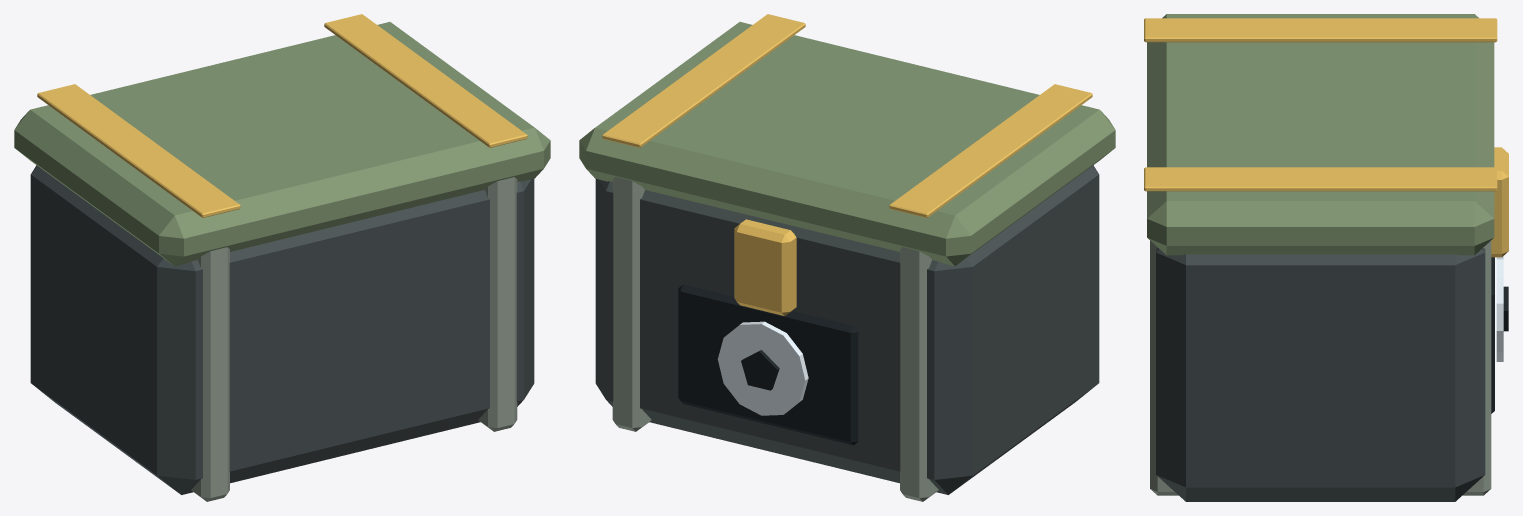
File: crate_stadium.glb
3 renders of one model, left to right at view 1: azimuth 30°, elevation 25°; view 2: azimuth 150°, elevation 25°; view 3: azimuth 270°, elevation 25°, orthographic. The views are drawn at different scales.
Parts seen in each view (by area): view 1: crate_stadium_RunningGear.008, crate_stadium_TankPaint.008, crate_stadium_TrophyGold.003, crate_stadium_ArmorEdges.008; view 2: crate_stadium_RunningGear.008, crate_stadium_TankPaint.008, crate_stadium_TrophyGold.003, crate_stadium_BallSeams.003, crate_stadium_ArmorEdges.008, crate_stadium_Snow.003; view 3: crate_stadium_RunningGear.008, crate_stadium_TankPaint.008, crate_stadium_TrophyGold.003, crate_stadium_ArmorEdges.008, crate_stadium_BallSeams.003, crate_stadium_Snow.003.
Part boxes in pixels (<box>): crate_stadium_RunningGear.008: <box>30,165,534,494</box>; crate_stadium_TankPaint.008: <box>14,22,550,266</box>; crate_stadium_TrophyGold.003: <box>37,14,527,217</box>; crate_stadium_ArmorEdges.008: <box>191,177,517,501</box>; crate_stadium_RunningGear.008: <box>595,165,1099,494</box>; crate_stadium_TankPaint.008: <box>579,22,1115,266</box>; crate_stadium_TrophyGold.003: <box>602,14,1092,316</box>; crate_stadium_BallSeams.003: <box>678,284,858,445</box>; crate_stadium_ArmorEdges.008: <box>612,177,938,501</box>; crate_stadium_Snow.003: <box>717,321,808,415</box>; crate_stadium_RunningGear.008: <box>1156,248,1485,501</box>; crate_stadium_TankPaint.008: <box>1147,14,1494,255</box>; crate_stadium_TrophyGold.003: <box>1144,18,1508,257</box>; crate_stadium_ArmorEdges.008: <box>1150,240,1491,495</box>; crate_stadium_BallSeams.003: <box>1491,257,1508,413</box>; crate_stadium_Snow.003: <box>1496,256,1503,361</box>.
Size of the model in its own units: 1.61 by 1.16 by 1.22.
